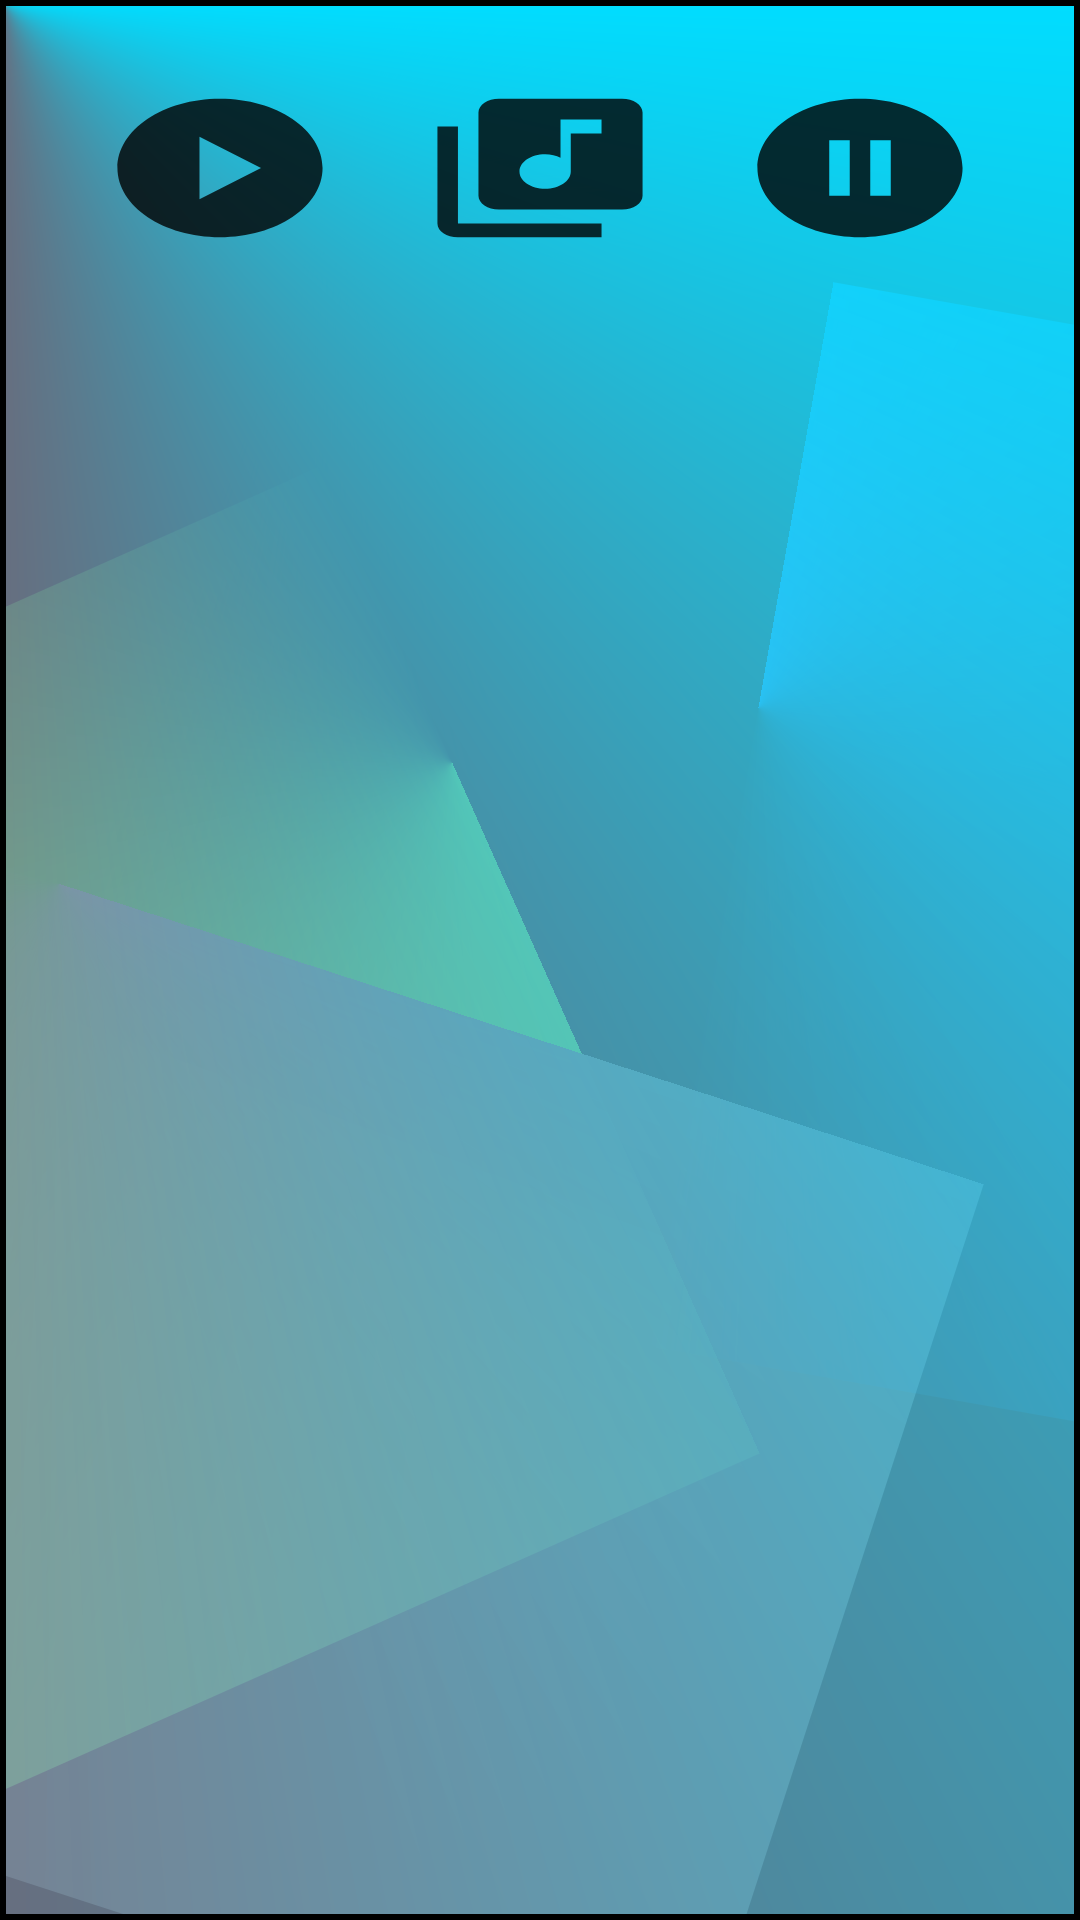

Point at icon controls on the screen. Image size 1080px×1920px, points as (x,y).
music: (560,154)
pause: (860,168)
play: (220,168)
